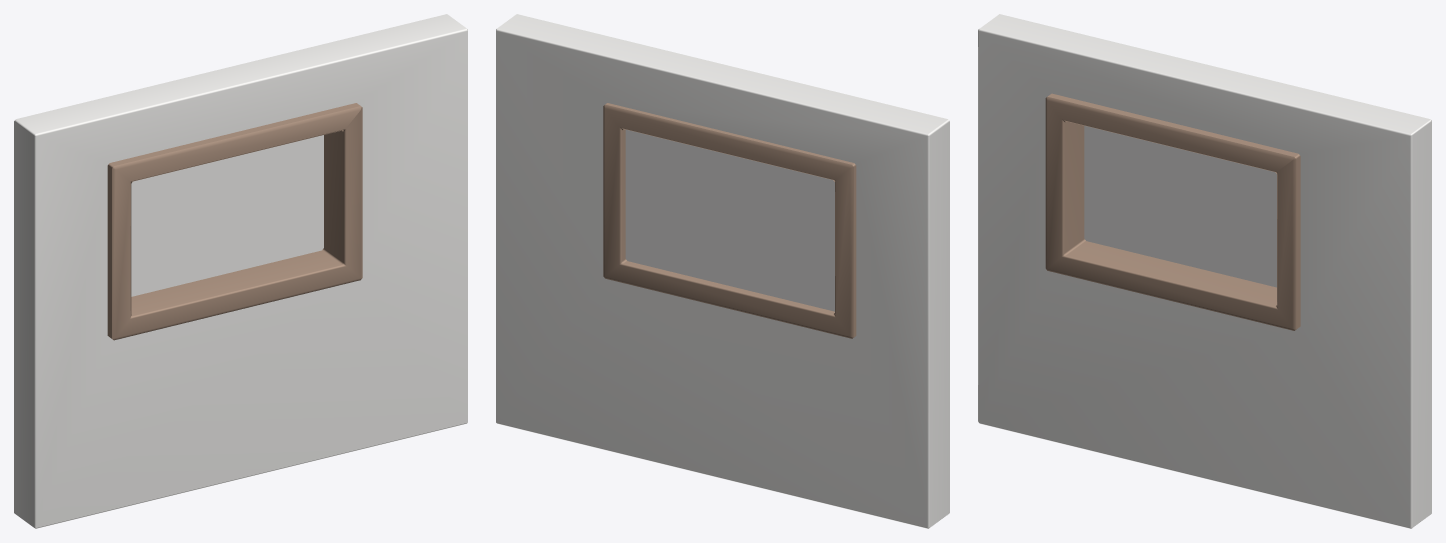
File: Wall_7.glb
The picture shows the model from 3 angles, left to right: view 1: azimuth 30°, elevation 25°; view 2: azimuth 150°, elevation 25°; view 3: azimuth 330°, elevation 25°; orthographic projection.
Parts seen in each view (by area): view 1: Wall_7; view 2: Wall_7; view 3: Wall_7.
Boxes of the visible parts, left/top/right/bottom form: Wall_7: left=14, top=14, right=467, bottom=528; Wall_7: left=496, top=14, right=949, bottom=528; Wall_7: left=978, top=14, right=1431, bottom=528.
Bounding box in the file's own units: 4.6 × 4 × 0.5595.
Materials: 2 (2 with a texture image).
